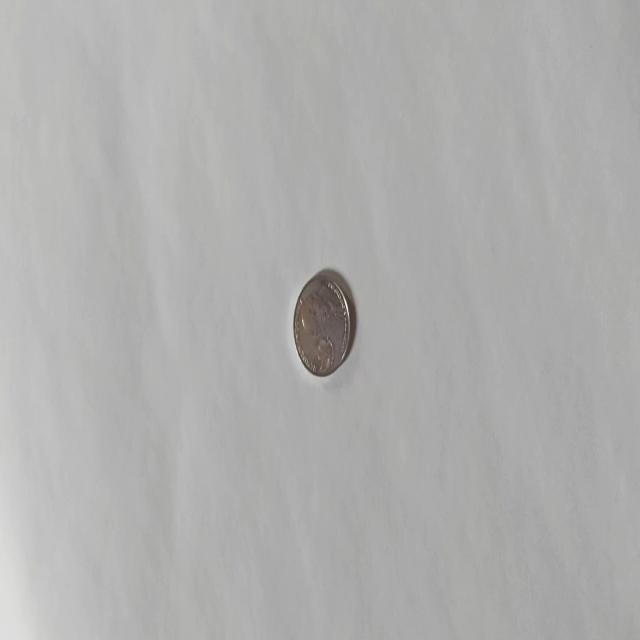lima ratus rupiah: (292, 270, 351, 378)
